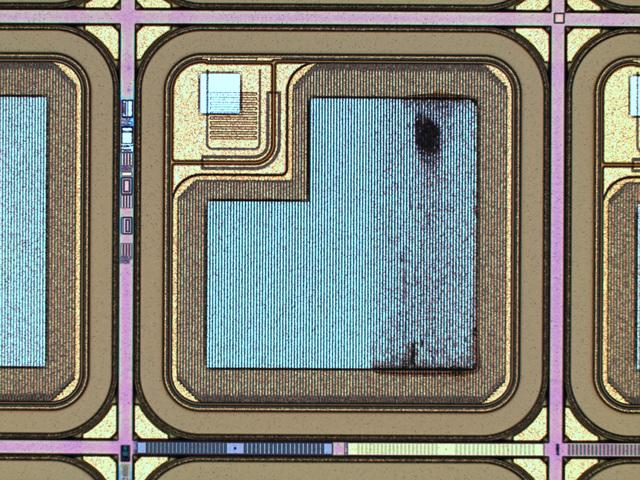SEZ BURNT: (358, 91, 486, 380)
